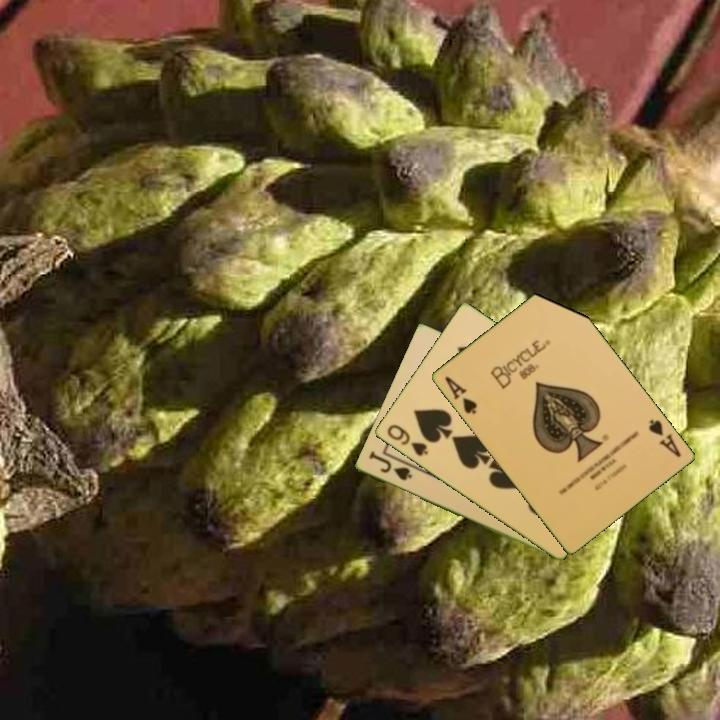9s: (383, 421, 431, 459)
As: (644, 415, 684, 460), (441, 372, 480, 417)
Js: (365, 449, 415, 484)
